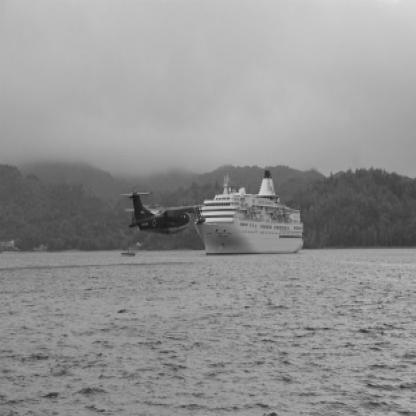US2: (120, 191, 207, 236)
